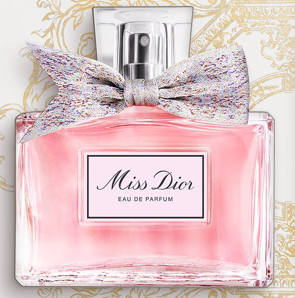dior_miss_dior: (12, 4, 275, 290)
